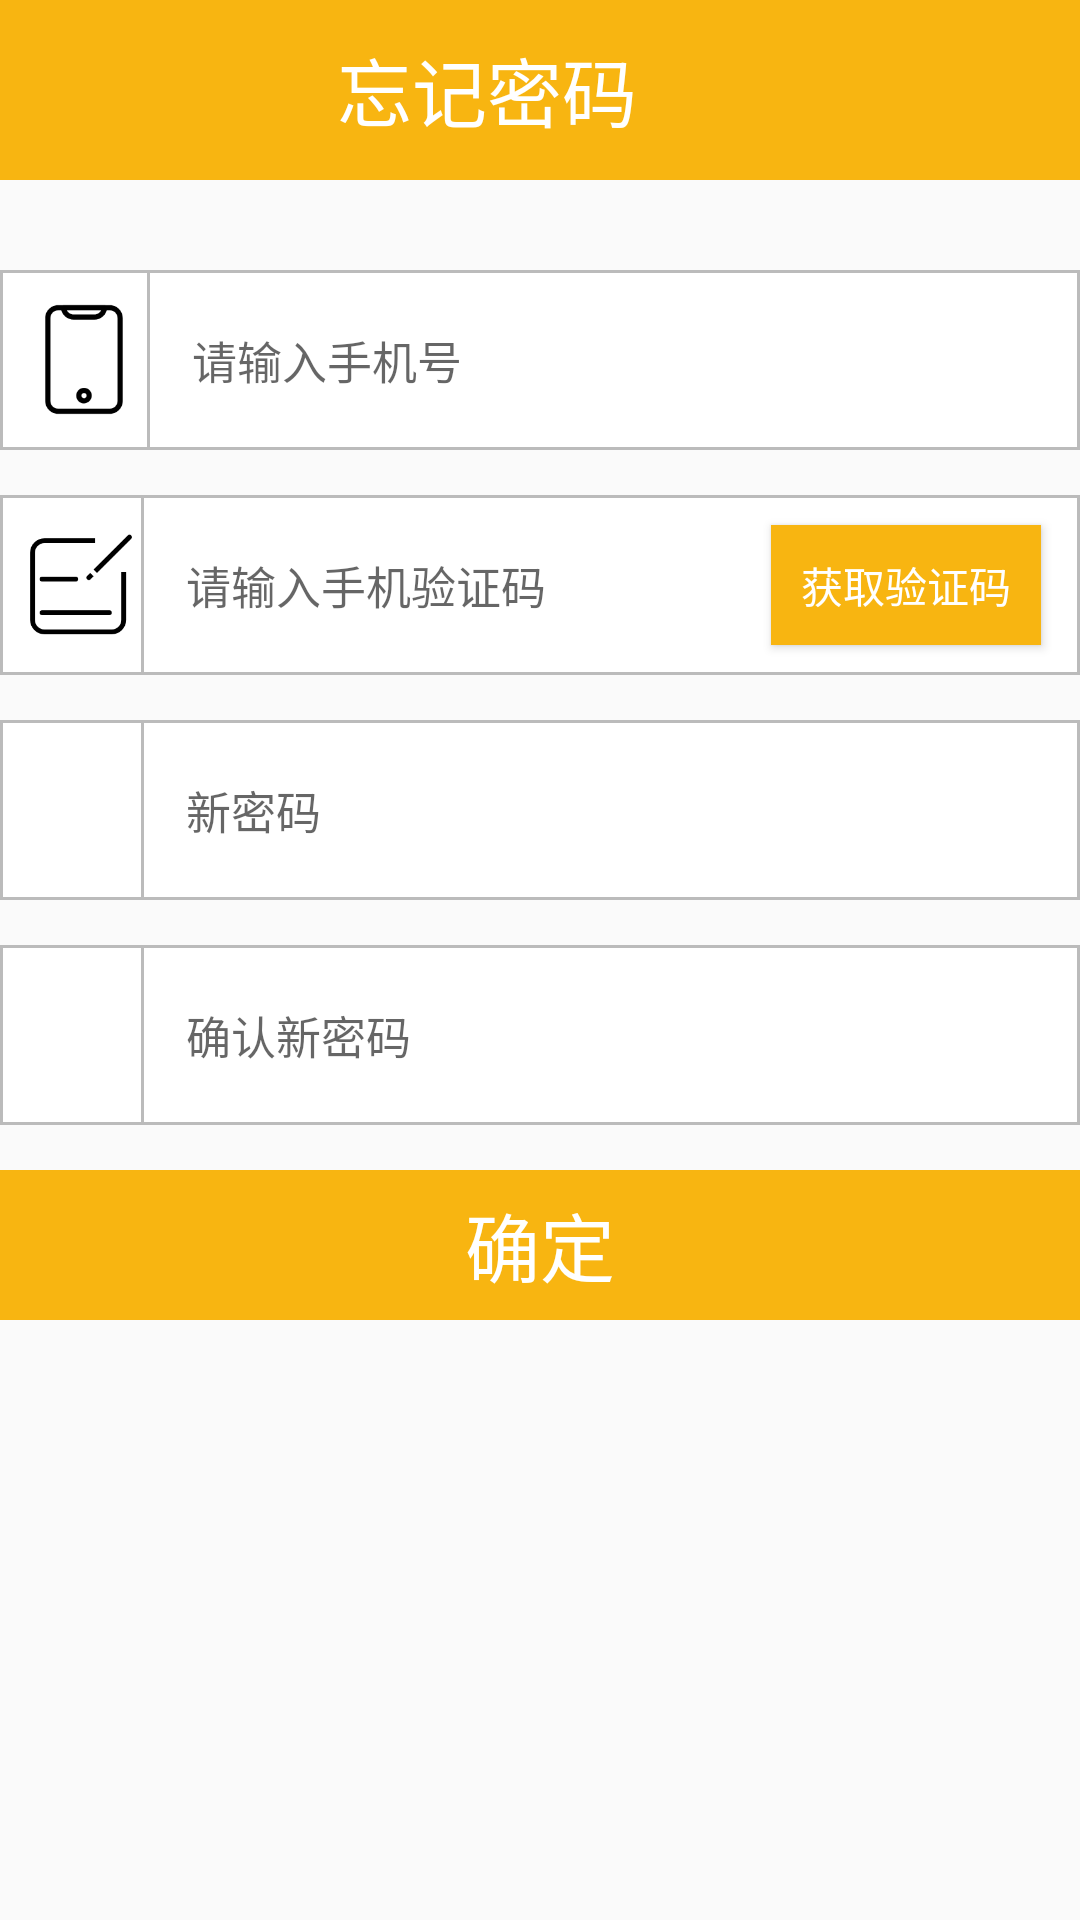

Icons on this 1080 × 1920 Android screen, each with the point to tap as (x=x, y=y):
input: (x=81, y=584)
phone: (x=84, y=359)
